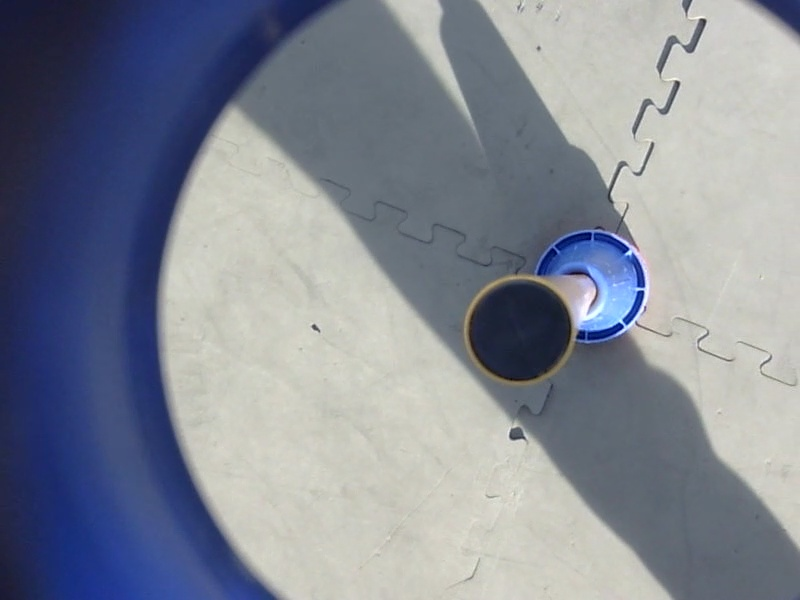tip: (457, 266, 584, 391)
